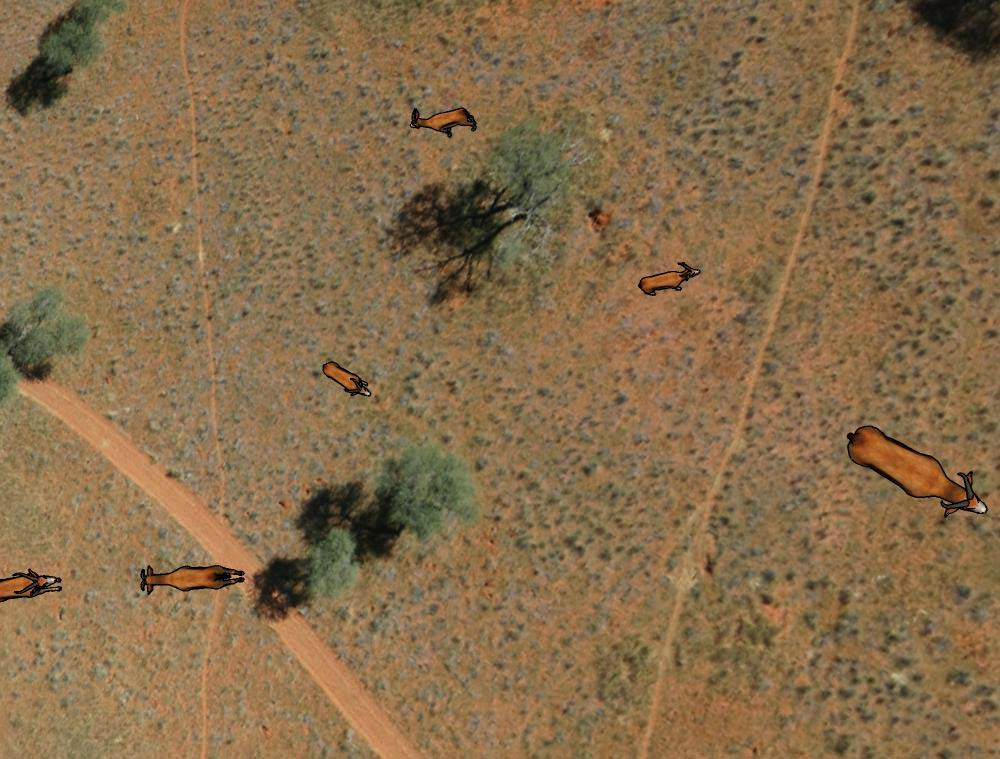springbok: (839, 419, 1000, 523), (135, 553, 251, 600), (637, 257, 701, 301), (314, 357, 377, 401), (1, 569, 76, 605), (407, 103, 481, 139)
